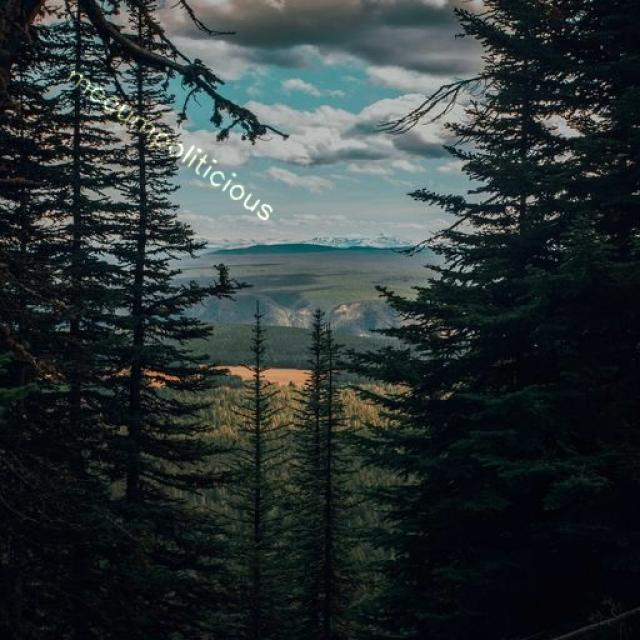watermark: (56, 58, 286, 226)
